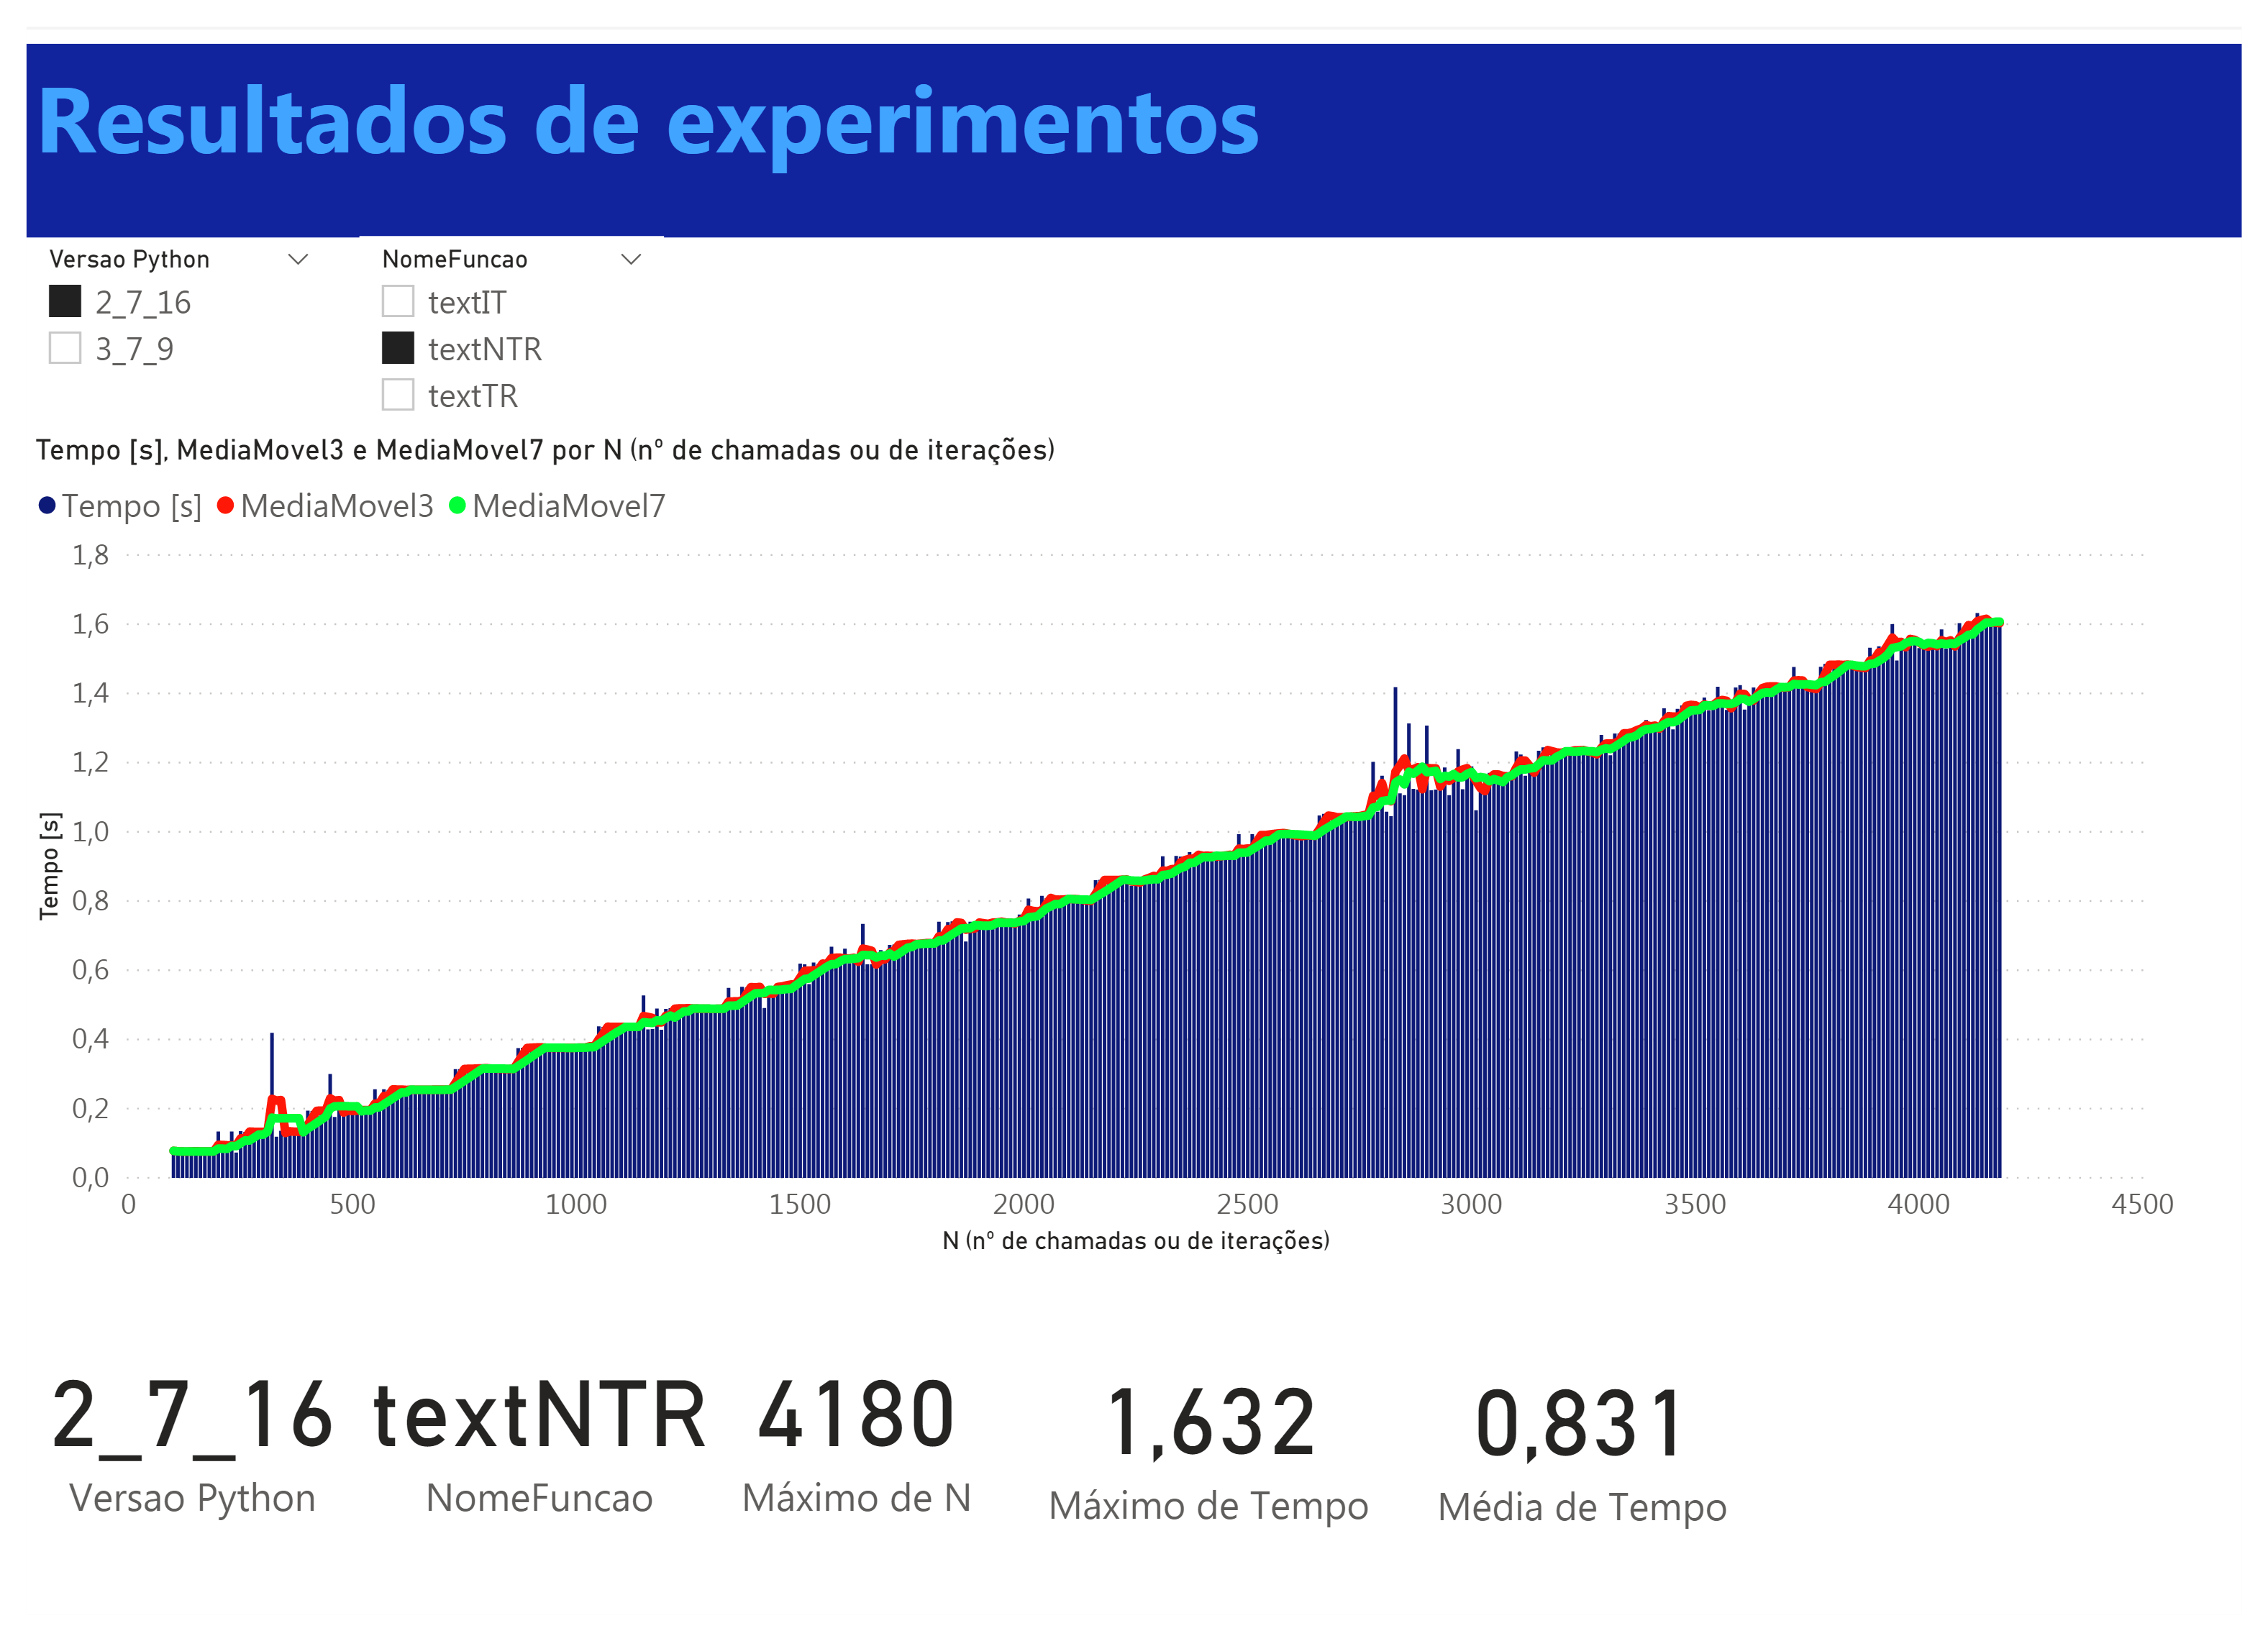

The page's visual inventory and layout, read from the dashboard file:
{"tool":"powerbi","page":{"name":"Texto","canvas":[1280,900],"ordinal":6},"visuals":[{"type":"card","fields":{"Values":["Max(Tabela1.Tempo)"]},"box":[576,744,216,120],"z":0},{"type":"card","fields":{"Values":["Min(Tabela1.NomeFuncao)"]},"box":[192,704,208,192],"z":1000},{"type":"card","fields":{"Values":["Max(Tabela1.N)"]},"box":[400,704,160,192],"z":2000},{"type":"card","fields":{"Values":["Avg(Tabela1.Tempo)"]},"box":[792,720,216,168],"z":3000},{"type":"slicer","fields":{"Values":["Tabela1.Versao Python"]},"box":[0,112,176,112],"z":4000},{"type":"card","fields":{"Values":["Min(Tabela1.Versao Python)"]},"box":[0,704,192,192],"z":5000},{"type":"textbox","box":[0,0,1280,112],"z":6000},{"type":"slicer","fields":{"Values":["Tabela1.NomeFuncao"]},"box":[192,112,176,112],"z":7000},{"type":"lineClusteredColumnComboChart","fields":{"Y":["Sum(Tabela1.Tempo)"],"Category":["Tabela1.N"],"Y2":["Tabela1.MediaMovel3","Tabela1.MediaMovel7"]},"box":[0,224,1248,480],"z":8000}]}

Visuals, with their boxes in screenshot pixels (x1, y1, x2, y2), scaled from the page's 1280x900 canvas onto the 2268x1641 screenshot:
card - Max(Tabela1.Tempo): <bbox>1021, 1356, 1403, 1576</bbox>
card - Min(Tabela1.NomeFuncao): <bbox>340, 1284, 709, 1634</bbox>
card - Max(Tabela1.N): <bbox>709, 1284, 992, 1634</bbox>
card - Avg(Tabela1.Tempo): <bbox>1403, 1313, 1786, 1619</bbox>
slicer - Tabela1.Versao Python: <bbox>0, 204, 312, 408</bbox>
card - Min(Tabela1.Versao Python): <bbox>0, 1284, 340, 1634</bbox>
textbox: <bbox>0, 0, 2267, 204</bbox>
slicer - Tabela1.NomeFuncao: <bbox>340, 204, 652, 408</bbox>
lineClusteredColumnComboChart - Sum(Tabela1.Tempo) x Tabela1.N: <bbox>0, 408, 2211, 1284</bbox>
